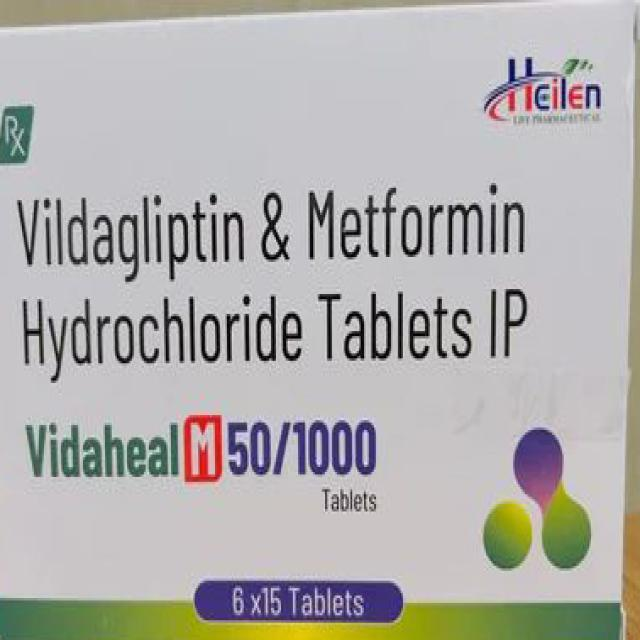drug-name: (20, 408, 378, 485)
